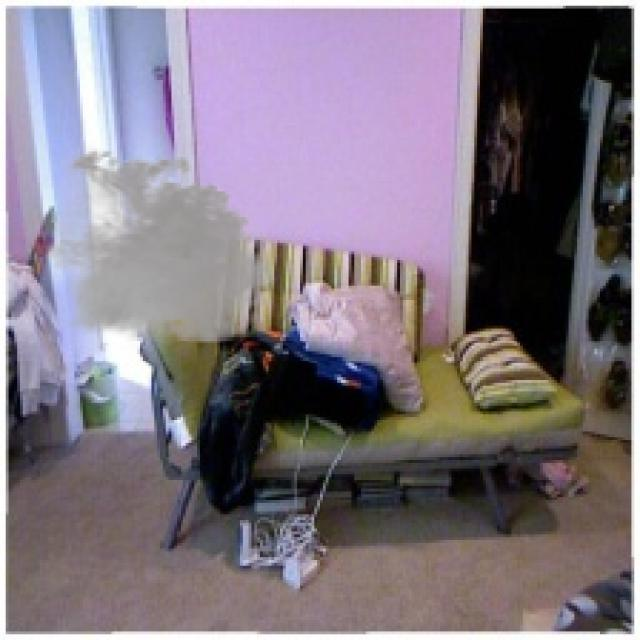smoke: (28, 143, 283, 351)
